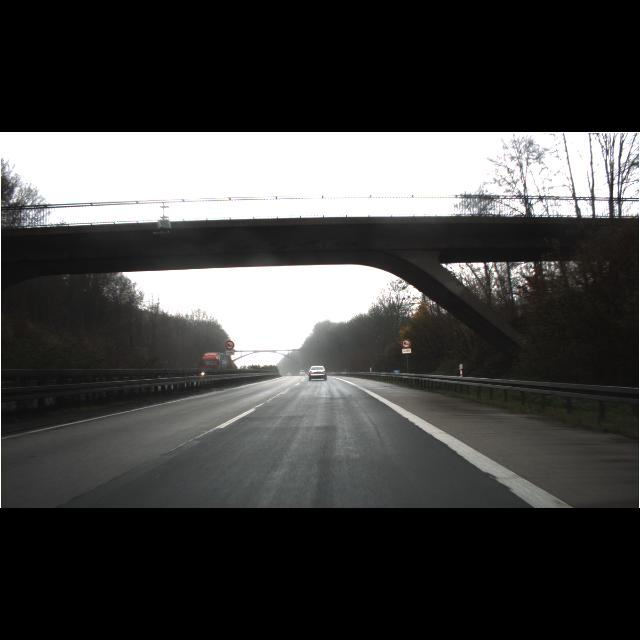prohibitory: (225, 340, 235, 350), (401, 339, 411, 349)
